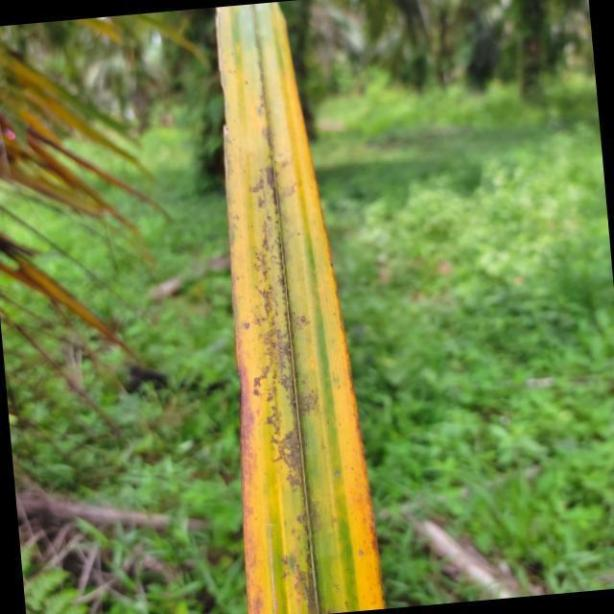Megnesium: (214, 0, 385, 614)
